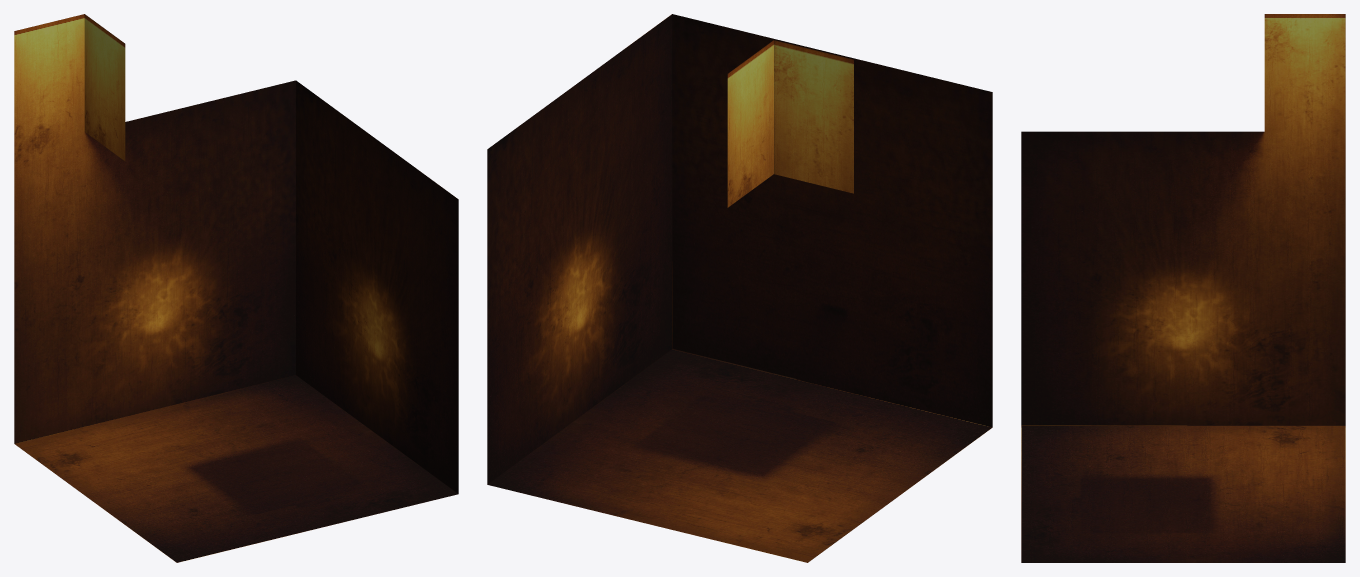
The model's file is office.glb.
3 views of the same model, side by side, from view 1: azimuth 30°, elevation 25°; view 2: azimuth 150°, elevation 25°; view 3: azimuth 270°, elevation 25° (orthographic). The views are drawn at different scales.
Visible parts, largest first — view 1: Office; view 2: Office; view 3: Office.
Boxes of the visible parts, x1,y1,x2,y2 form: Office: [14, 14, 458, 562]; Office: [487, 14, 992, 562]; Office: [1021, 14, 1345, 562].
Bounding box in the file's own units: 39.16 × 54.82 × 39.16.
Materials: 1 (1 with a texture image).
